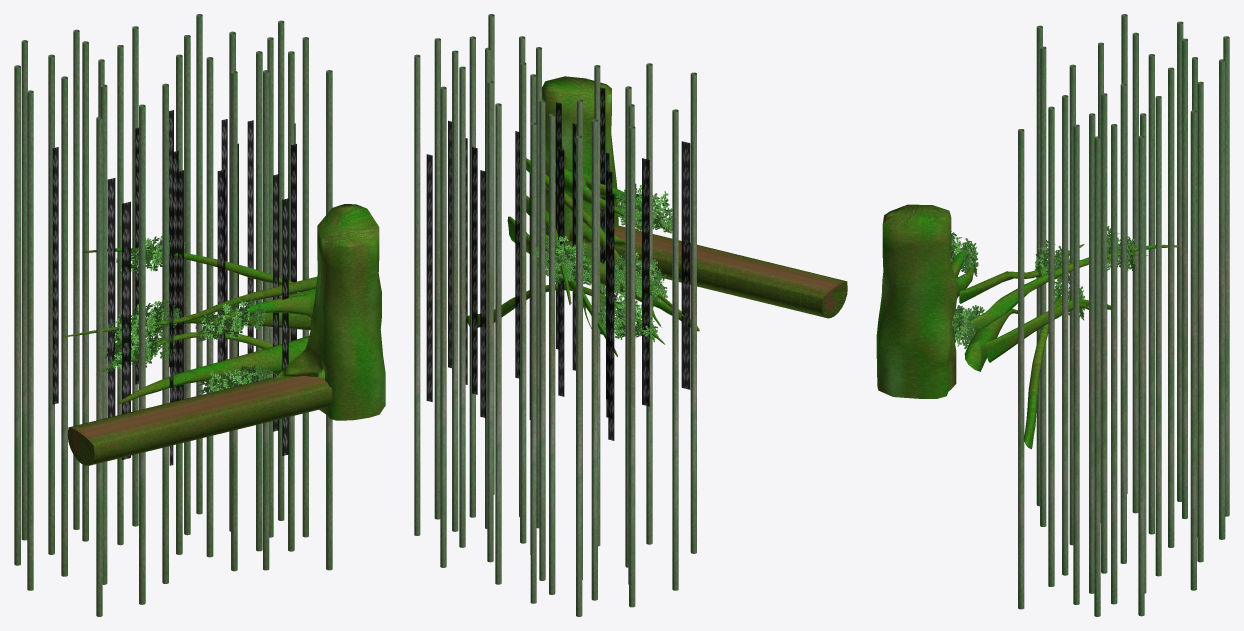
File: 311_bg_tree.fbx
3 views of the same model, side by side, from view 1: azimuth 30°, elevation 25°; view 2: azimuth 150°, elevation 25°; view 3: azimuth 270°, elevation 25° (orthographic). The views are drawn at different scales.
Visible parts, largest first — view 1: wood:polySurface24, wood:pCylinder1, pCylinder18, pCylinder19, pCylinder20, wood:pCylinder10, pCylinder16, wood:pCylinder2, pCylinder17, wood:pCylinder5, wood:pCylinder7, pCylinder7 (+35 smaller); view 2: wood:pCylinder1, wood:polySurface24, wood:pCylinder9, wood:pCylinder5, pCylinder7, pCylinder15, pCylinder18, pCylinder19, wood:pCylinder12, pCylinder6, pCylinder12, pCylinder14 (+33 smaller); view 3: wood:polySurface24, pCylinder15, pCylinder10, wood:pCylinder5, pCylinder5, pCylinder8, pCylinder9, pCylinder12, pCylinder14, pCylinder16, wood:pCylinder9, wood:pCylinder4 (+21 smaller).
Boxes of the visible parts, x1,y1,x2,y2 form: wood:polySurface24: [197, 204, 385, 420]; wood:pCylinder1: [67, 376, 332, 465]; pCylinder18: [27, 90, 33, 590]; pCylinder19: [14, 65, 20, 565]; pCylinder20: [21, 40, 27, 540]; wood:pCylinder10: [61, 76, 67, 576]; pCylinder16: [73, 29, 79, 529]; wood:pCylinder2: [96, 116, 102, 616]; pCylinder17: [82, 41, 88, 541]; wood:pCylinder5: [206, 57, 213, 557]; wood:pCylinder7: [139, 104, 145, 604]; pCylinder7: [48, 54, 54, 554]; wood:pCylinder1: [605, 225, 847, 318]; wood:polySurface24: [542, 76, 669, 257]; wood:pCylinder9: [452, 50, 458, 531]; wood:pCylinder5: [520, 62, 526, 543]; pCylinder7: [591, 119, 597, 600]; pCylinder15: [495, 103, 501, 584]; pCylinder18: [672, 109, 678, 590]; pCylinder19: [629, 126, 635, 607]; wood:pCylinder12: [459, 66, 465, 547]; pCylinder6: [539, 99, 545, 580]; pCylinder12: [414, 54, 420, 535]; pCylinder14: [434, 38, 440, 519]; wood:polySurface24: [876, 204, 978, 398]; pCylinder15: [1197, 81, 1203, 562]; pCylinder10: [1062, 95, 1068, 575]; wood:pCylinder5: [1101, 93, 1107, 573]; pCylinder5: [1120, 83, 1126, 563]; pCylinder8: [1073, 124, 1079, 604]; pCylinder9: [1190, 110, 1196, 590]; pCylinder12: [1138, 135, 1144, 616]; pCylinder14: [1094, 136, 1100, 616]; pCylinder16: [1219, 59, 1225, 539]; wood:pCylinder9: [1111, 124, 1117, 604]; wood:pCylinder4: [1048, 106, 1054, 586].
Size of the model in its own units: 11832 by 17188 by 11506.
